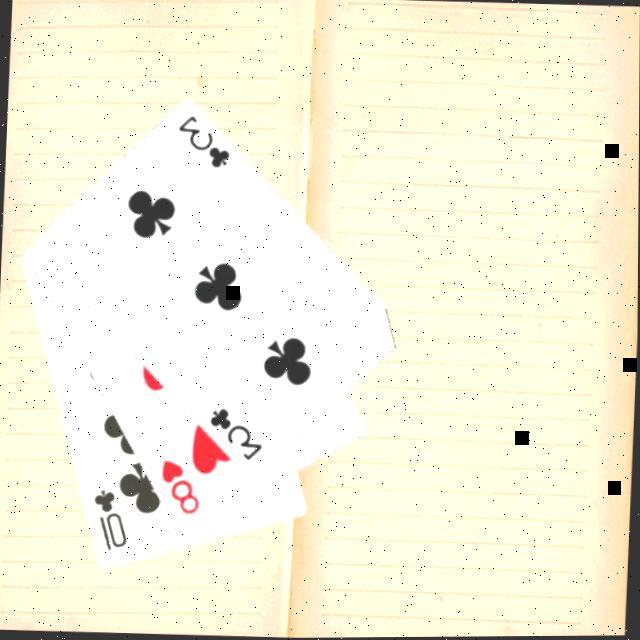10C: (89, 488, 133, 556)
3C: (206, 407, 268, 467), (173, 114, 235, 174)
8H: (157, 458, 205, 522)
